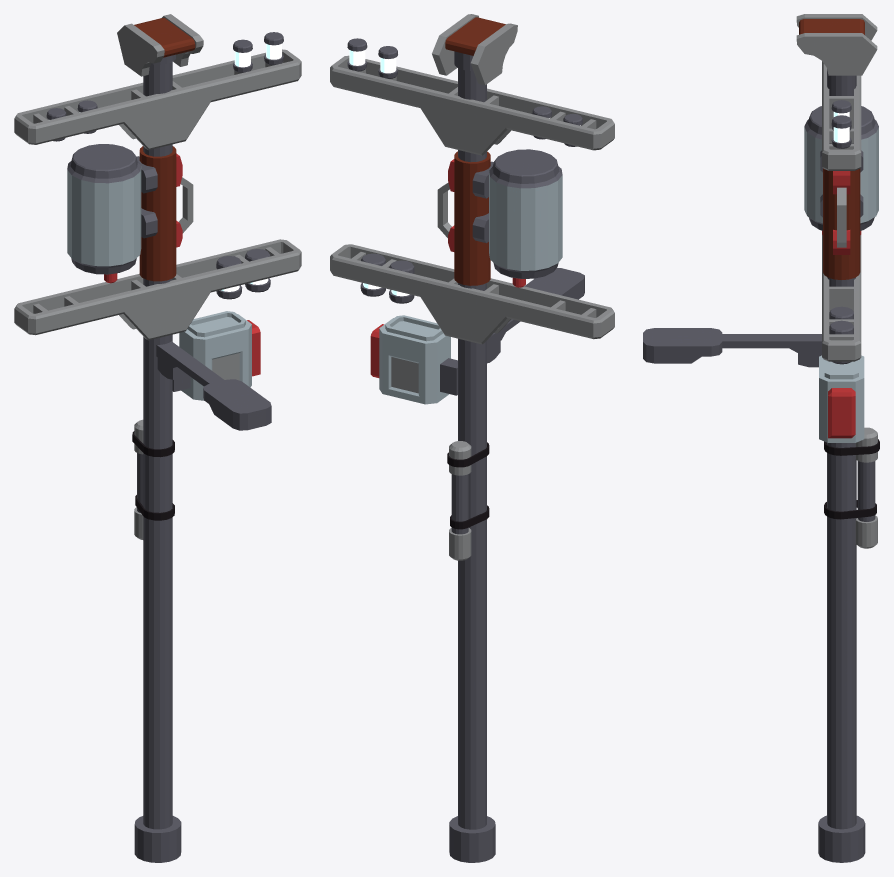
The model's file is elPole_02.glb.
3 views of the same model, side by side, from view 1: azimuth 30°, elevation 25°; view 2: azimuth 150°, elevation 25°; view 3: azimuth 270°, elevation 25° (orthographic).
Parts seen in each view (by area): view 1: geometry_0, geometry_6; view 2: geometry_0, geometry_6; view 3: geometry_0.
Boxes of the visible parts, x1=… form: geometry_0: x1=14, y1=14, x2=301, y2=862; geometry_6: x1=79, y1=43, x2=281, y2=291; geometry_0: x1=330, y1=14, x2=614, y2=862; geometry_6: x1=349, y1=50, x2=580, y2=296; geometry_0: x1=643, y1=14, x2=879, y2=862.
Size of the model in its own units: 0.877 by 2.53 by 0.6559.
3 materials, 3 textured.
